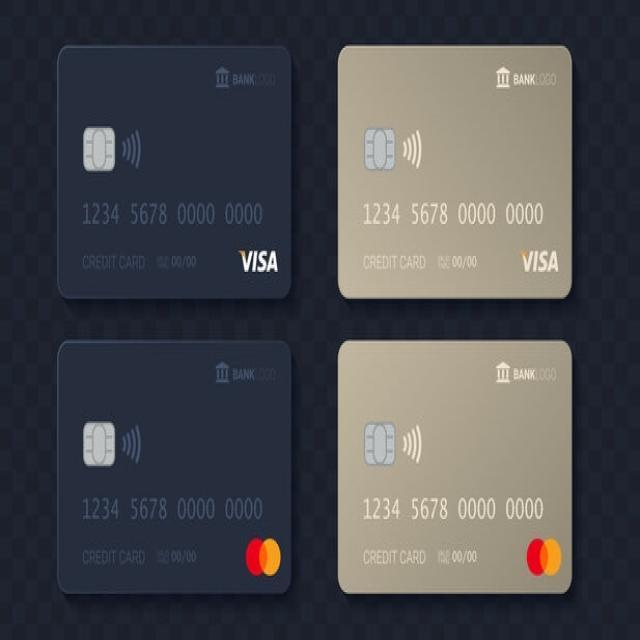payment_card: (54, 44, 298, 303), (52, 339, 296, 594), (335, 43, 573, 300), (335, 338, 573, 595)
